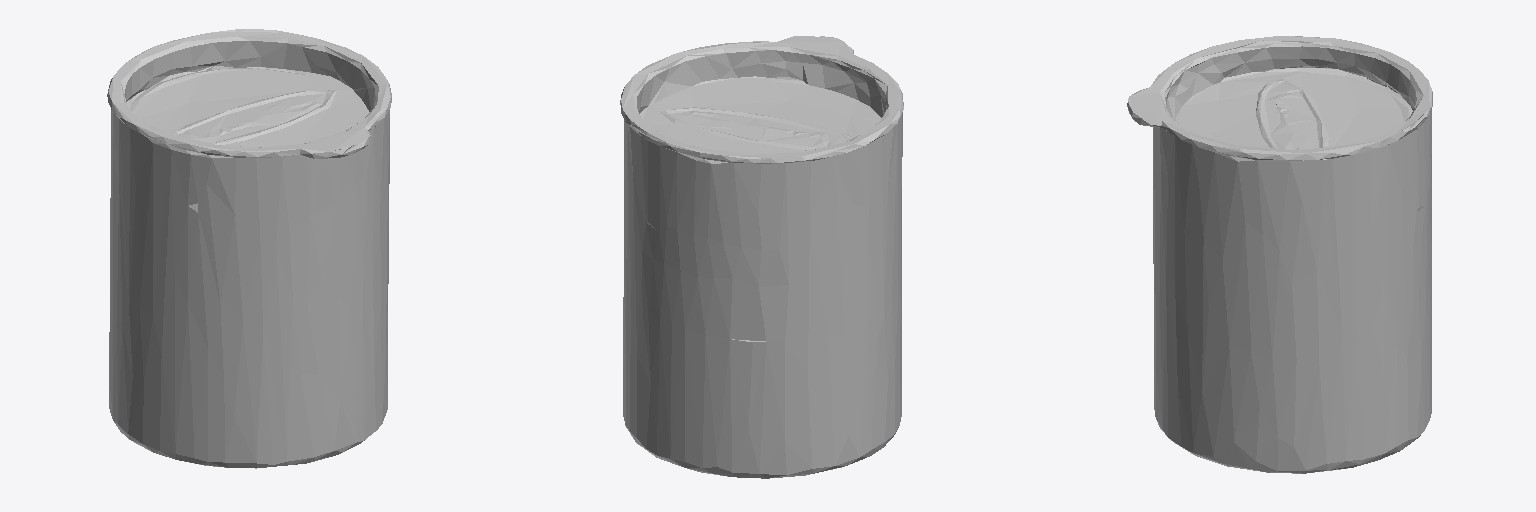
Rendered from textured_simple.obj.
3 renders of one model, left to right at view 1: azimuth 30°, elevation 25°; view 2: azimuth 150°, elevation 25°; view 3: azimuth 270°, elevation 25°, orthographic.
Parts seen in each view (by area): view 1: textured.001; view 2: textured.001; view 3: textured.001.
Part boxes in pixels (bbox=[...]): textured.001: bbox=[107, 29, 391, 468]; textured.001: bbox=[620, 36, 903, 478]; textured.001: bbox=[1127, 36, 1432, 473].
Size of the model in its own units: 6.61 by 8.35 by 7.12.